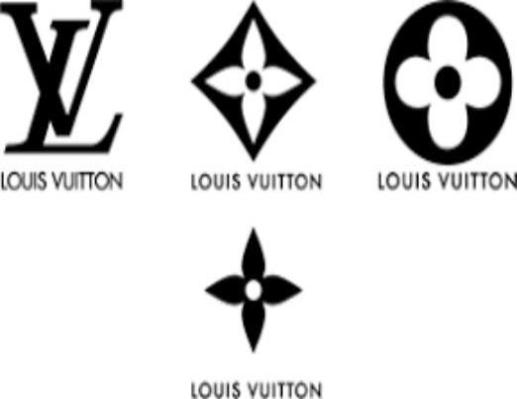LOUIS-VUITTON: (3, 1, 128, 160), (1, 162, 134, 203)
